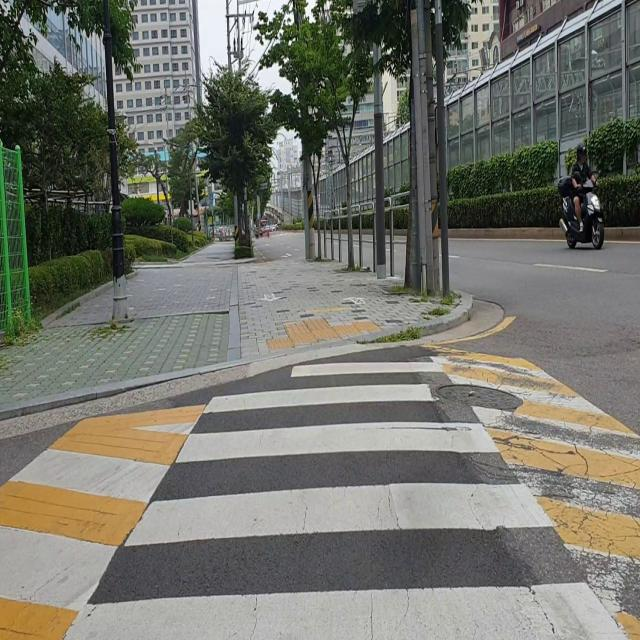횡단보도: (59, 358, 630, 640)
